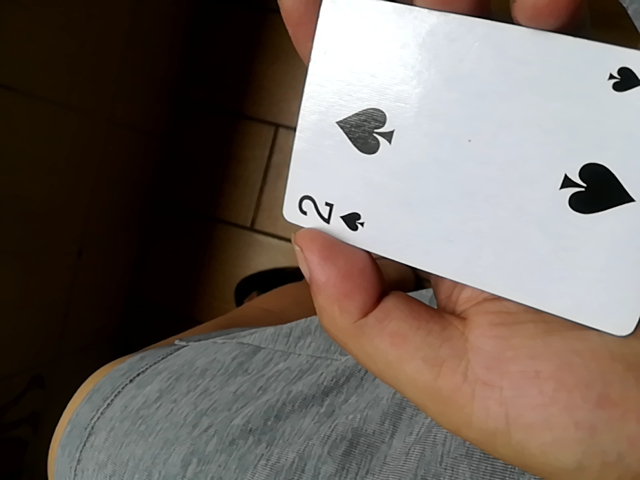ht 2: (278, 0, 640, 338)
